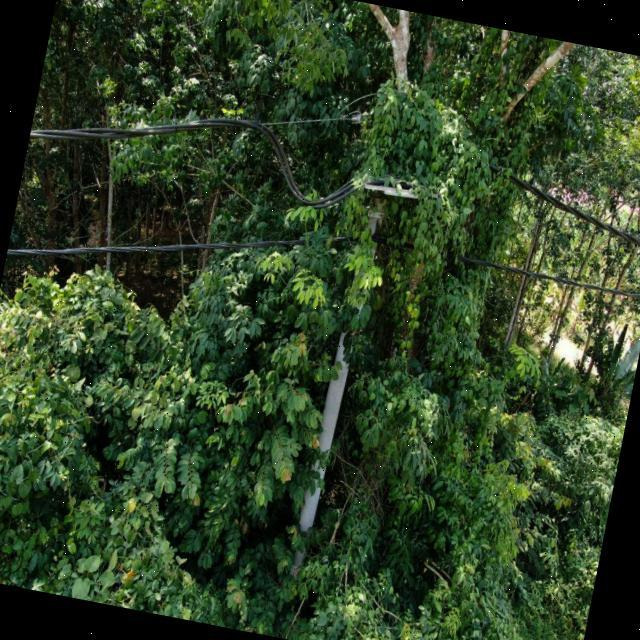critical vegetation: (324, 66, 497, 242)
